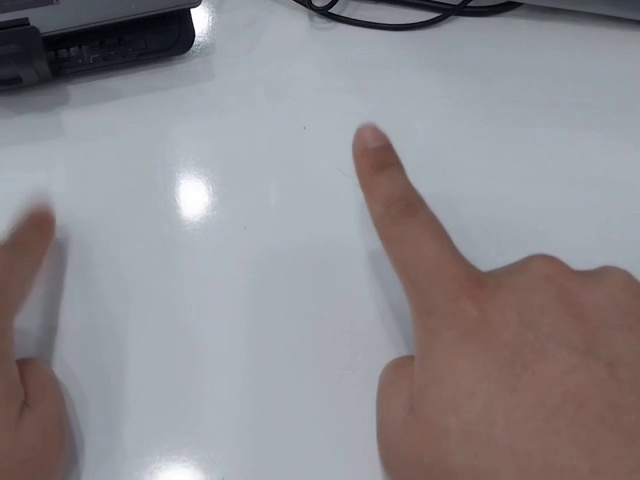fingers: (350, 120, 406, 173), (10, 210, 57, 262)
